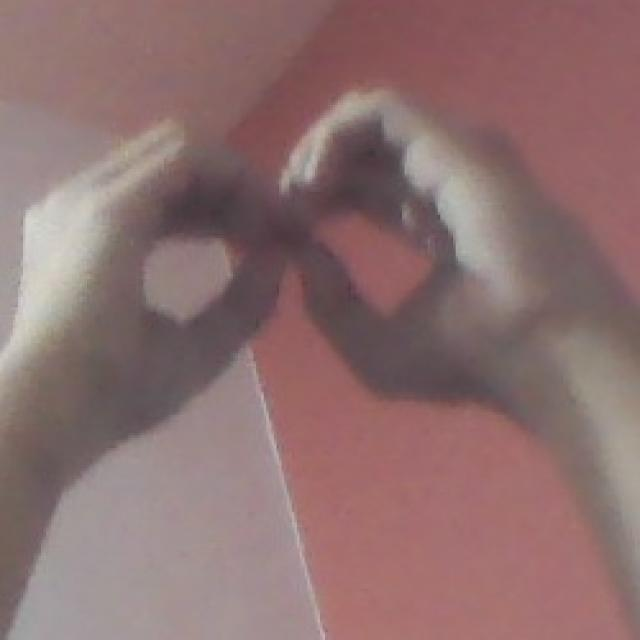Alphabet-B: (25, 80, 596, 410)
